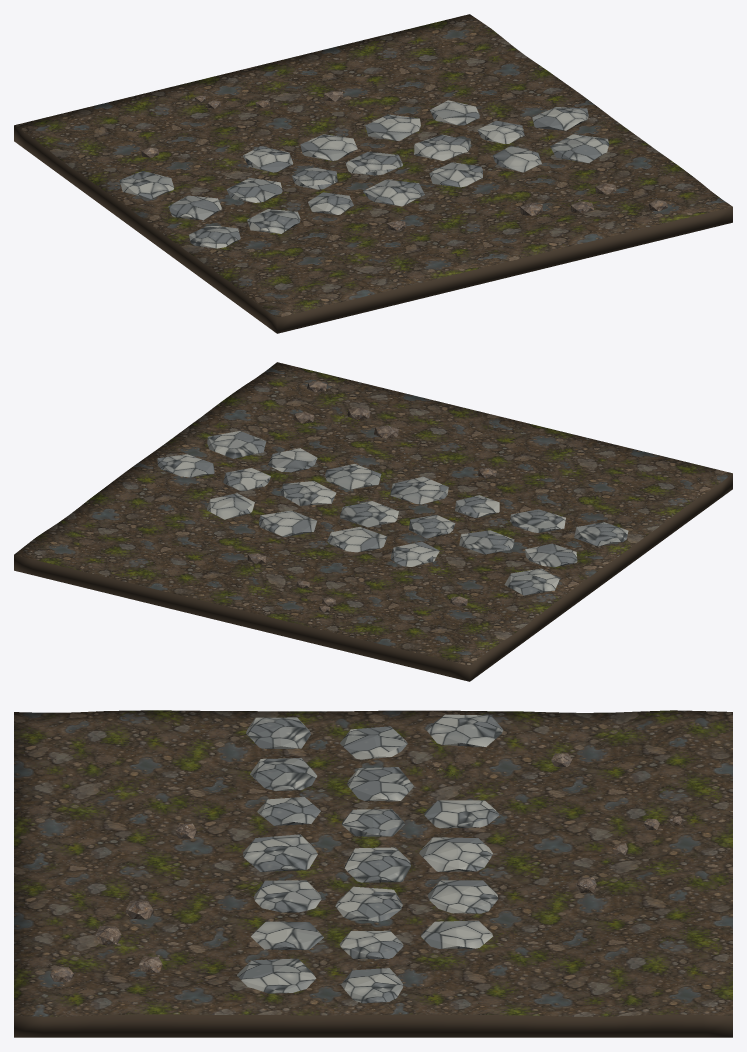
File: cave_path_tile.glb
3 views of the same model, one above another, from view 1: azimuth 30°, elevation 25°; view 2: azimuth 150°, elevation 25°; view 3: azimuth 270°, elevation 25° (orthographic). The views are drawn at different scales.
Parts seen in each view (by area): view 1: cave_path_tile_floor, cave_path_tile_flagstones; view 2: cave_path_tile_floor, cave_path_tile_flagstones; view 3: cave_path_tile_floor, cave_path_tile_flagstones.
Part boxes in pixels (x1=…): cave_path_tile_floor: x1=14, y1=14, x2=732, y2=333; cave_path_tile_flagstones: x1=119, y1=91, x2=667, y2=248; cave_path_tile_floor: x1=14, y1=362, x2=732, y2=681; cave_path_tile_flagstones: x1=157, y1=380, x2=628, y2=612; cave_path_tile_floor: x1=14, y1=710, x2=732, y2=1037; cave_path_tile_flagstones: x1=50, y1=714, x2=683, y2=1003.
Size of what is drawn, in the model's own units: 6 by 0.3032 by 6.
3 materials, 3 textured.
